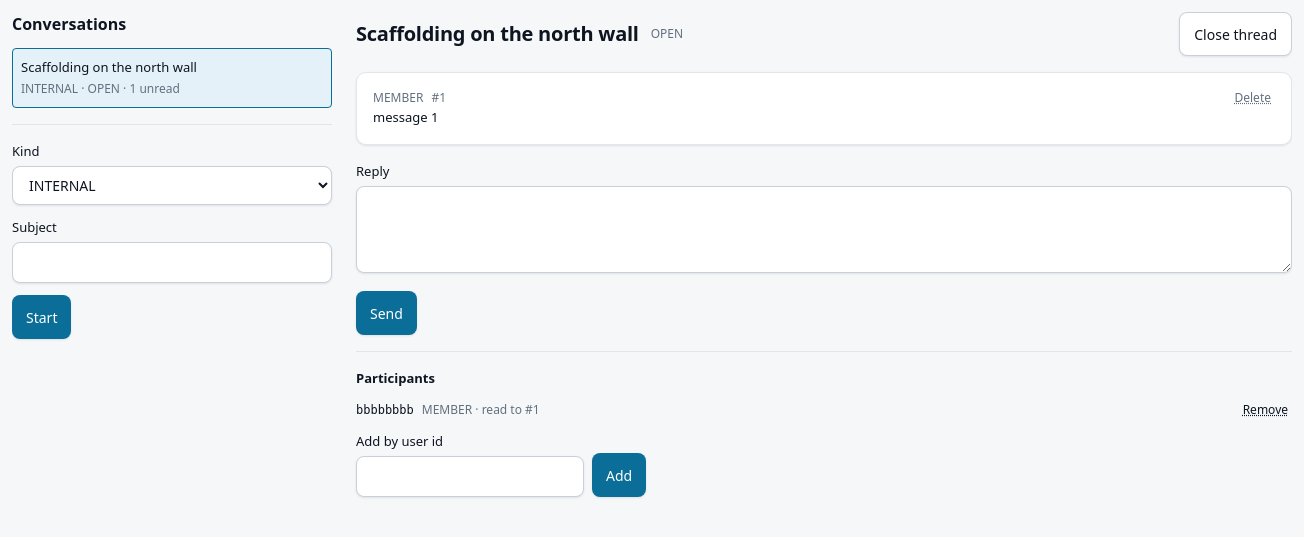
Test case: participants › refuses anything that is not a user id, before asking the API
In the field labelled "Add by user id": (470, 476) [356,456,584,497], type "ada@acme.test"
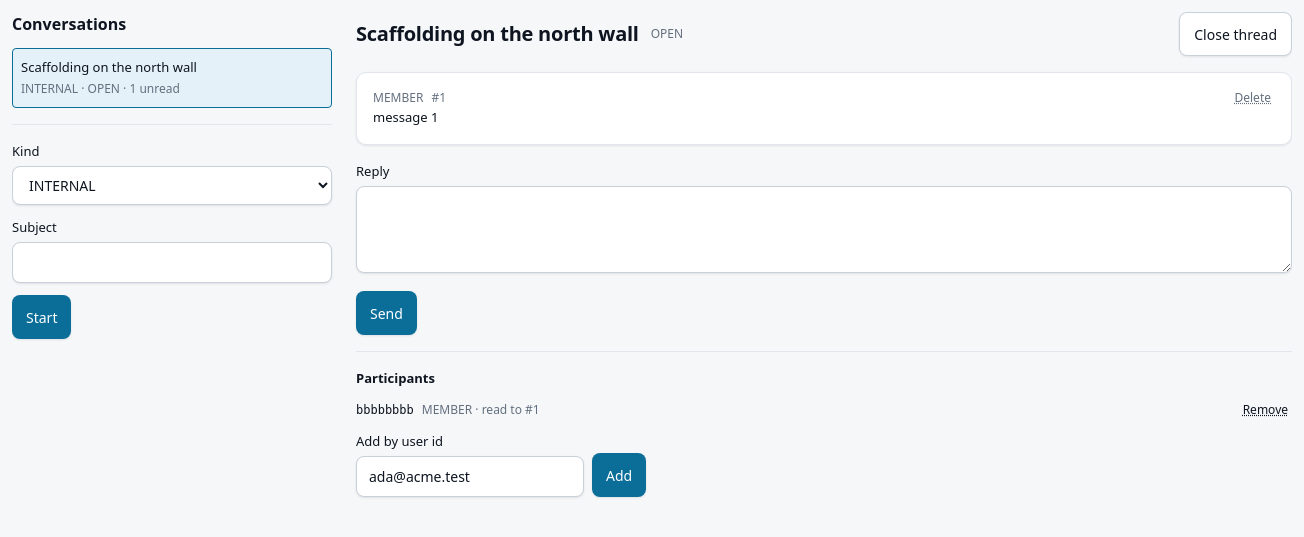
Click the button "Add": (619, 475) [592,453,646,497]
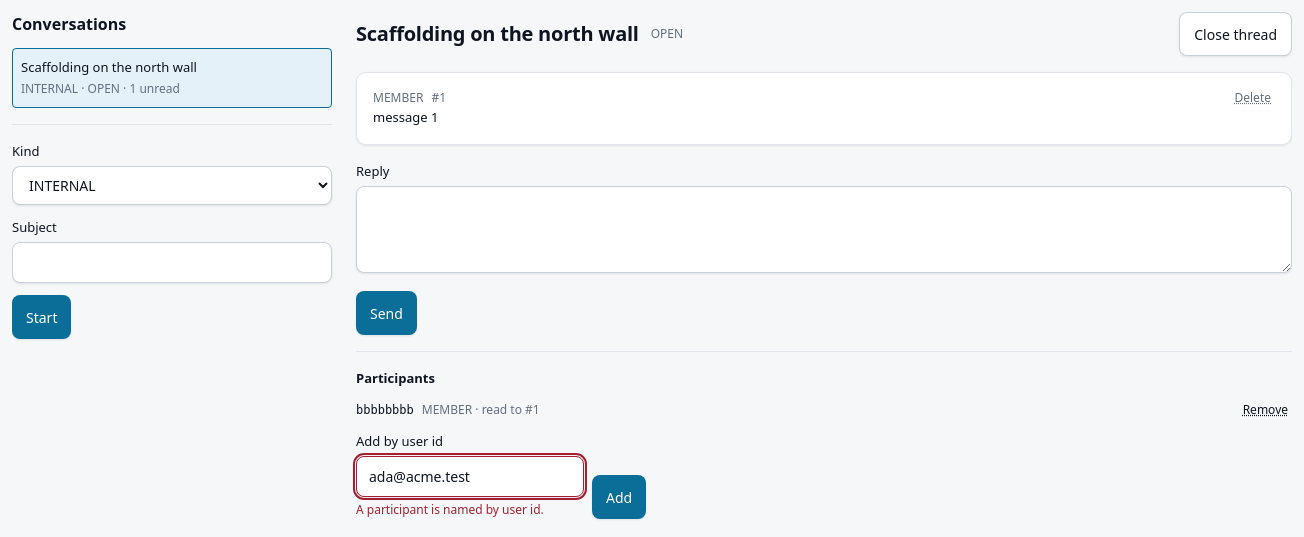
Expected: the text "A participant is named by user id." is shown, [356,501,544,518]
